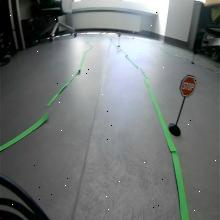stop: (180, 74, 196, 96)
